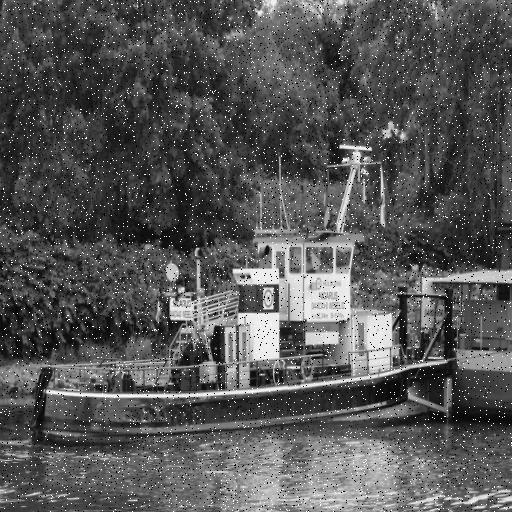tugboat: (24, 143, 466, 456)
